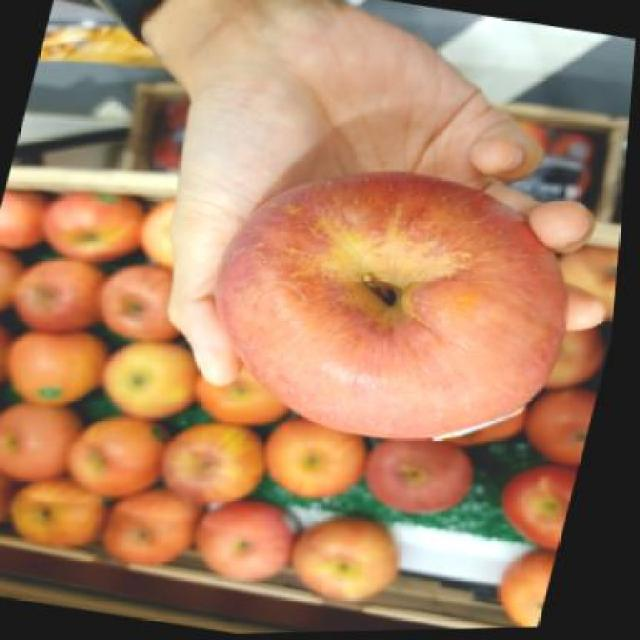Fresh Apple: (234, 177, 555, 431)
